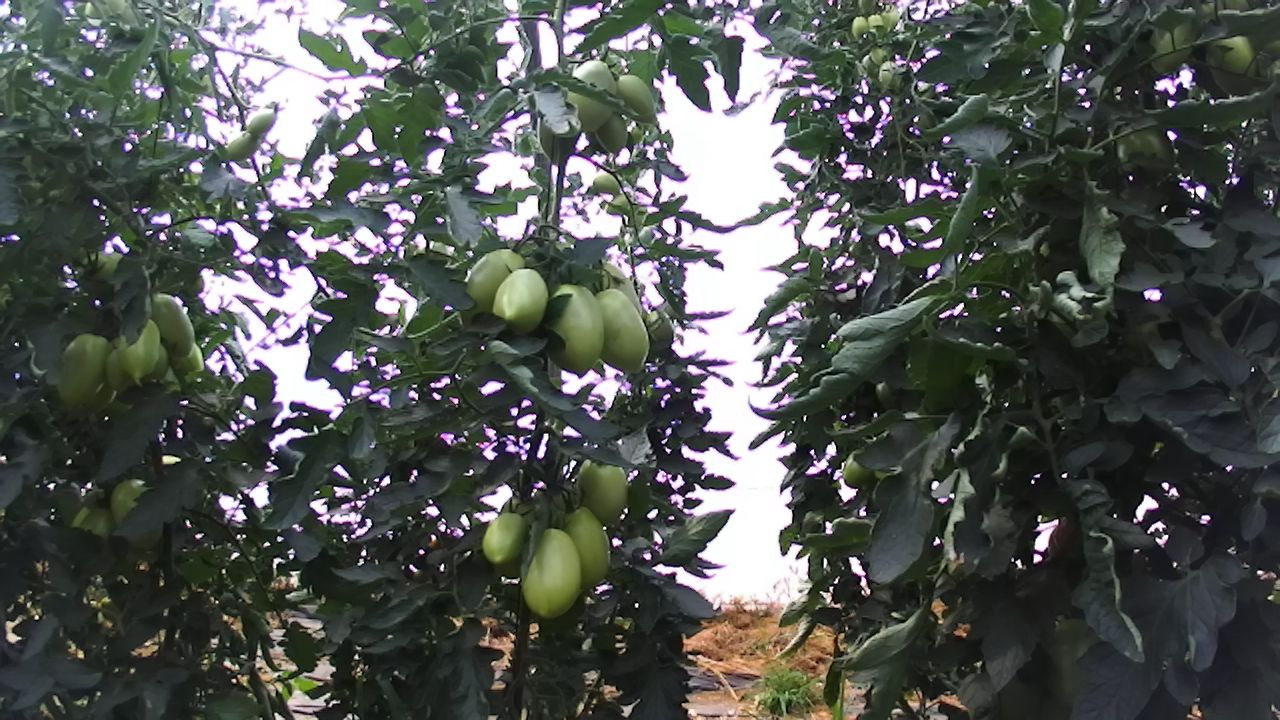tomato: (448, 240, 536, 332), (515, 521, 586, 623), (586, 288, 653, 377), (547, 283, 608, 380), (563, 53, 621, 138), (52, 333, 113, 411), (558, 503, 613, 589), (573, 455, 632, 531), (491, 264, 551, 336), (145, 286, 197, 363), (116, 315, 162, 386), (479, 510, 529, 568), (612, 69, 660, 123), (592, 106, 632, 155), (841, 445, 876, 491)
